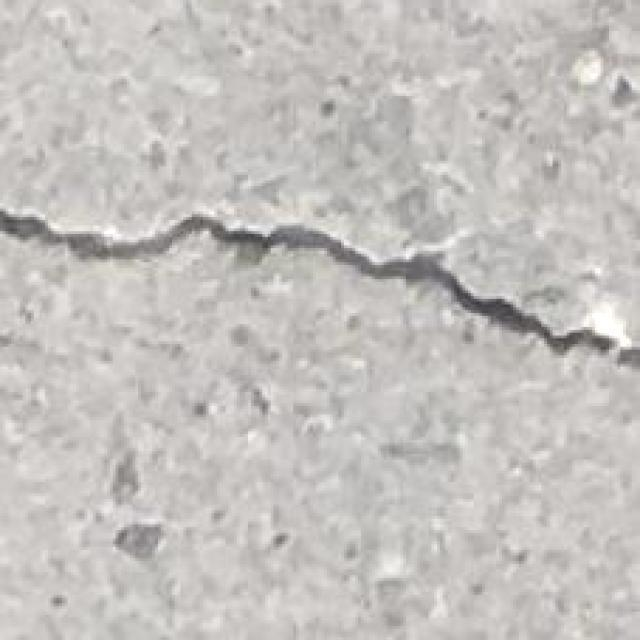crack: (1, 203, 635, 366)
